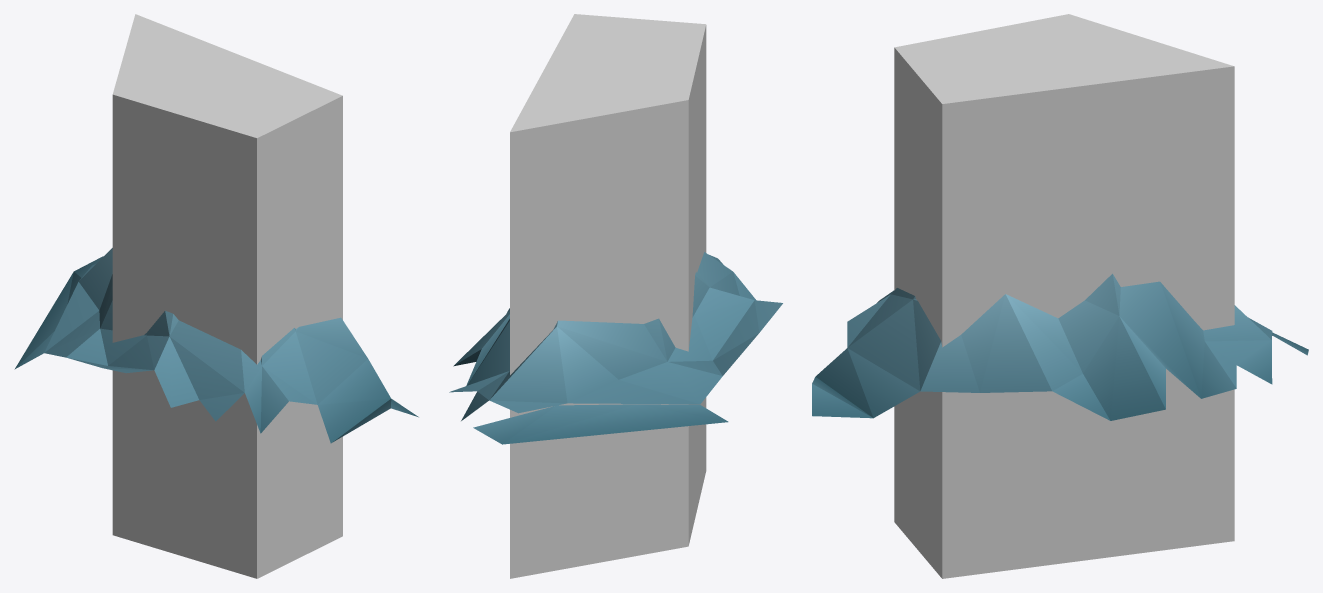
File: island_small_ice_Collection_9.fbx
3 views of the same model, side by side, from view 1: azimuth 30°, elevation 25°; view 2: azimuth 150°, elevation 25°; view 3: azimuth 270°, elevation 25° (orthographic). The views are drawn at different scales.
Parts seen in each view (by area): view 1: islandRock_9_col, islandRock_9; view 2: islandRock_9_col, islandRock_9; view 3: islandRock_9_col, islandRock_9.
Boxes of the visible parts, x1,y1,x2,y2 form: islandRock_9_col: [112, 14, 342, 578]; islandRock_9: [14, 248, 418, 443]; islandRock_9_col: [510, 14, 706, 578]; islandRock_9: [449, 252, 782, 444]; islandRock_9_col: [894, 14, 1234, 578]; islandRock_9: [812, 273, 1308, 420].
Bounding box in the file's own units: 2019 × 3308 × 3138.
